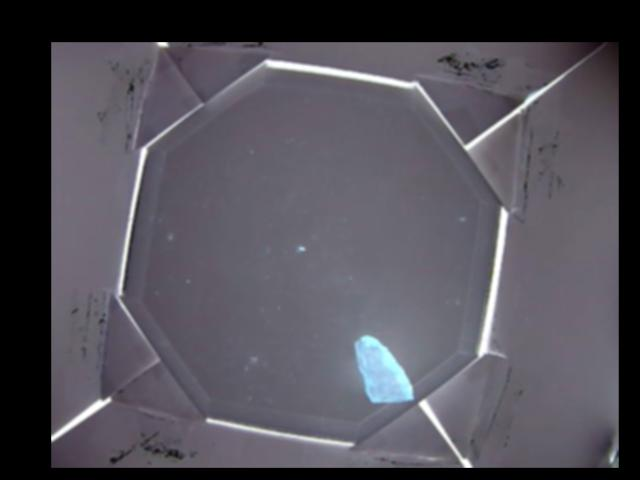Brisk: (355, 335, 416, 403)
